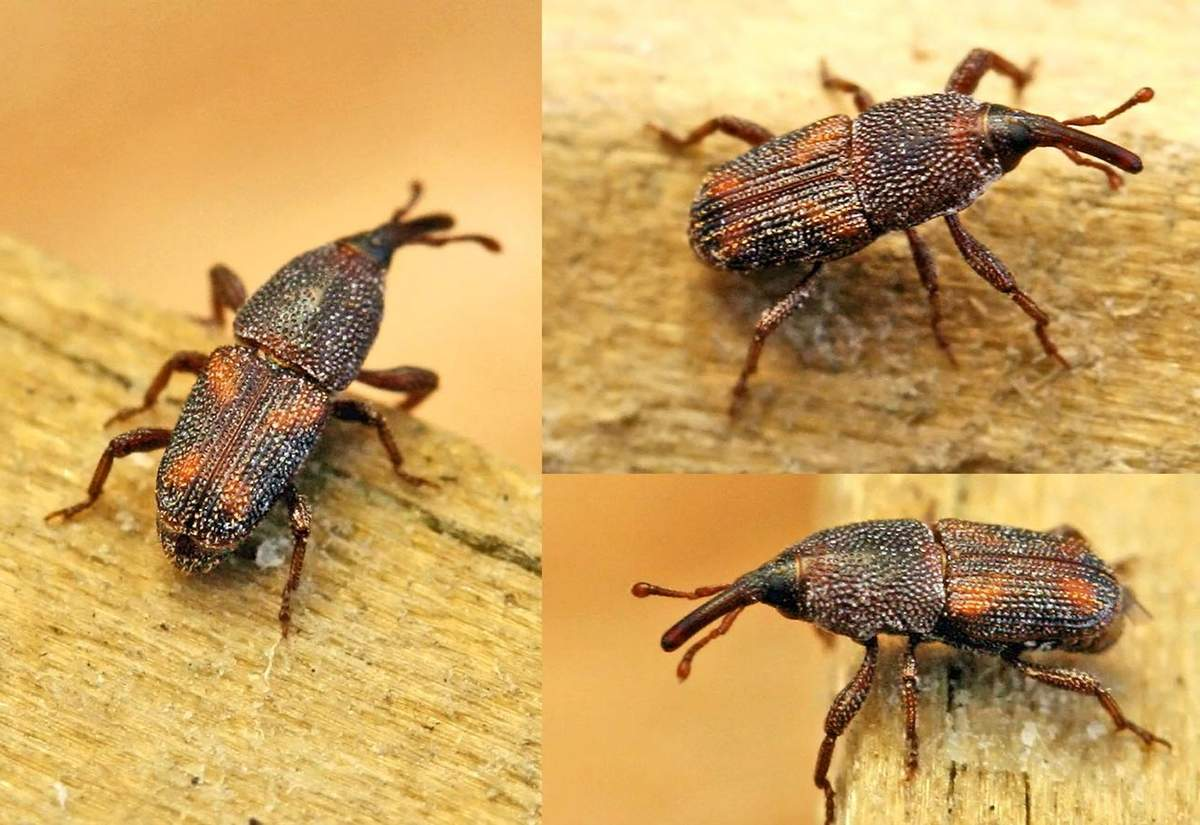dolgonosik: (43, 175, 507, 642), (643, 42, 1161, 419), (632, 514, 1182, 825)
